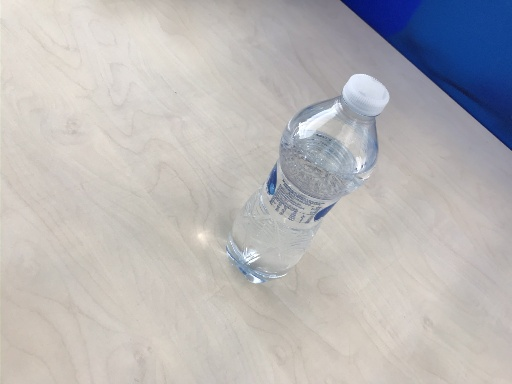Acqua: (223, 68, 391, 284)
